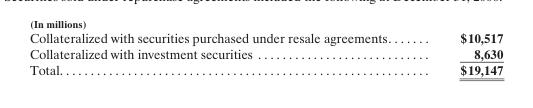table: (29, 29, 502, 77)
table column: (29, 29, 424, 77), (424, 29, 502, 77)
table row: (29, 29, 502, 45), (29, 45, 502, 61), (29, 61, 502, 77)
